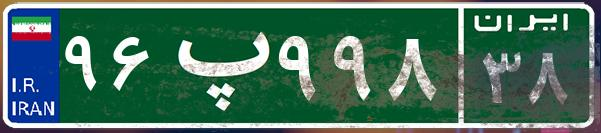3: (475, 38, 525, 113)
6: (110, 28, 158, 105)
8: (385, 28, 445, 110), (525, 38, 570, 115)
9: (273, 28, 330, 110), (330, 28, 385, 110), (57, 26, 110, 107)
پ: (158, 15, 273, 115)
